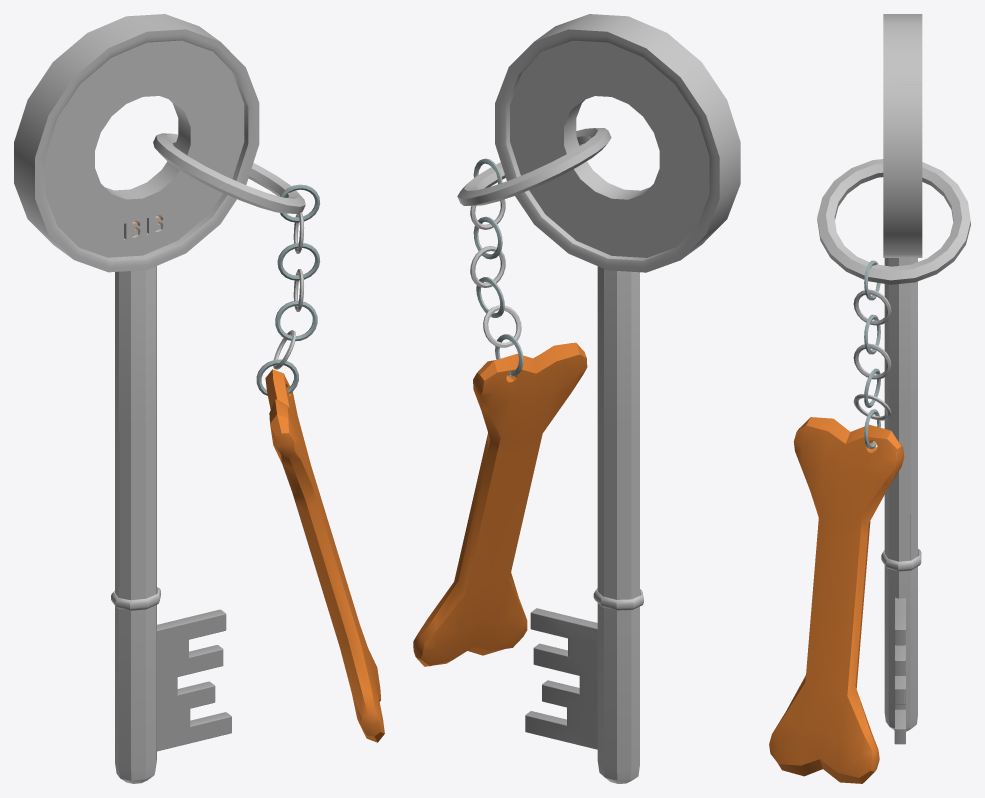
Rendered from Key.fbx.
The picture shows the model from 3 angles, left to right: view 1: azimuth 30°, elevation 25°; view 2: azimuth 150°, elevation 25°; view 3: azimuth 270°, elevation 25°; orthographic projection. The views are drawn at different scales.
Visible parts, largest first — view 1: Key, Titl_1, Titl_2; view 2: Key, Titl_1, Titl_2; view 3: Key, Titl_1, Titl_2.
Part boxes in pixels (box(x1,y1,x2,y2)): Key: box(14, 14, 259, 783); Titl_1: box(153, 133, 320, 511); Titl_2: box(297, 480, 384, 742); Key: box(495, 14, 740, 783); Titl_1: box(457, 128, 611, 454); Titl_2: box(413, 441, 539, 666); Key: box(881, 14, 922, 744); Titl_1: box(793, 159, 970, 538); Titl_2: box(769, 530, 879, 783).
Bounding box in the file's own units: 2.93 × 6.35 × 1.65.
Materials: 1 (1 with a texture image).
